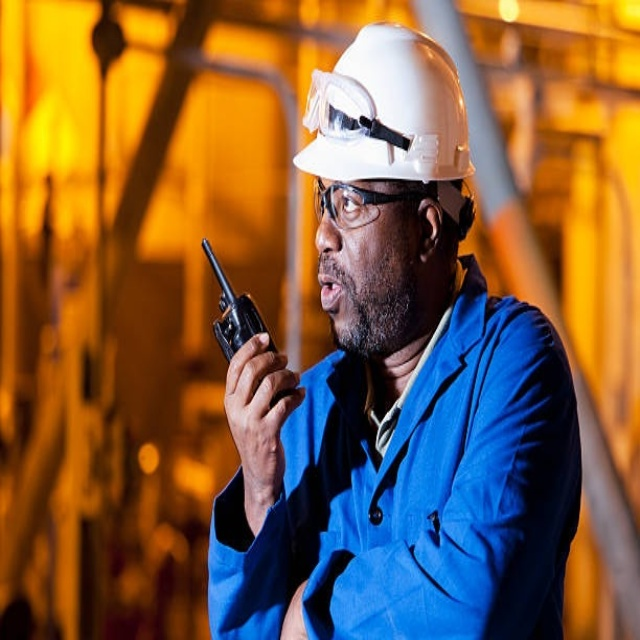Gafas: (311, 176, 421, 224)
Sin_guantes: (221, 332, 307, 505)
Sin_mascara: (312, 257, 363, 340)
